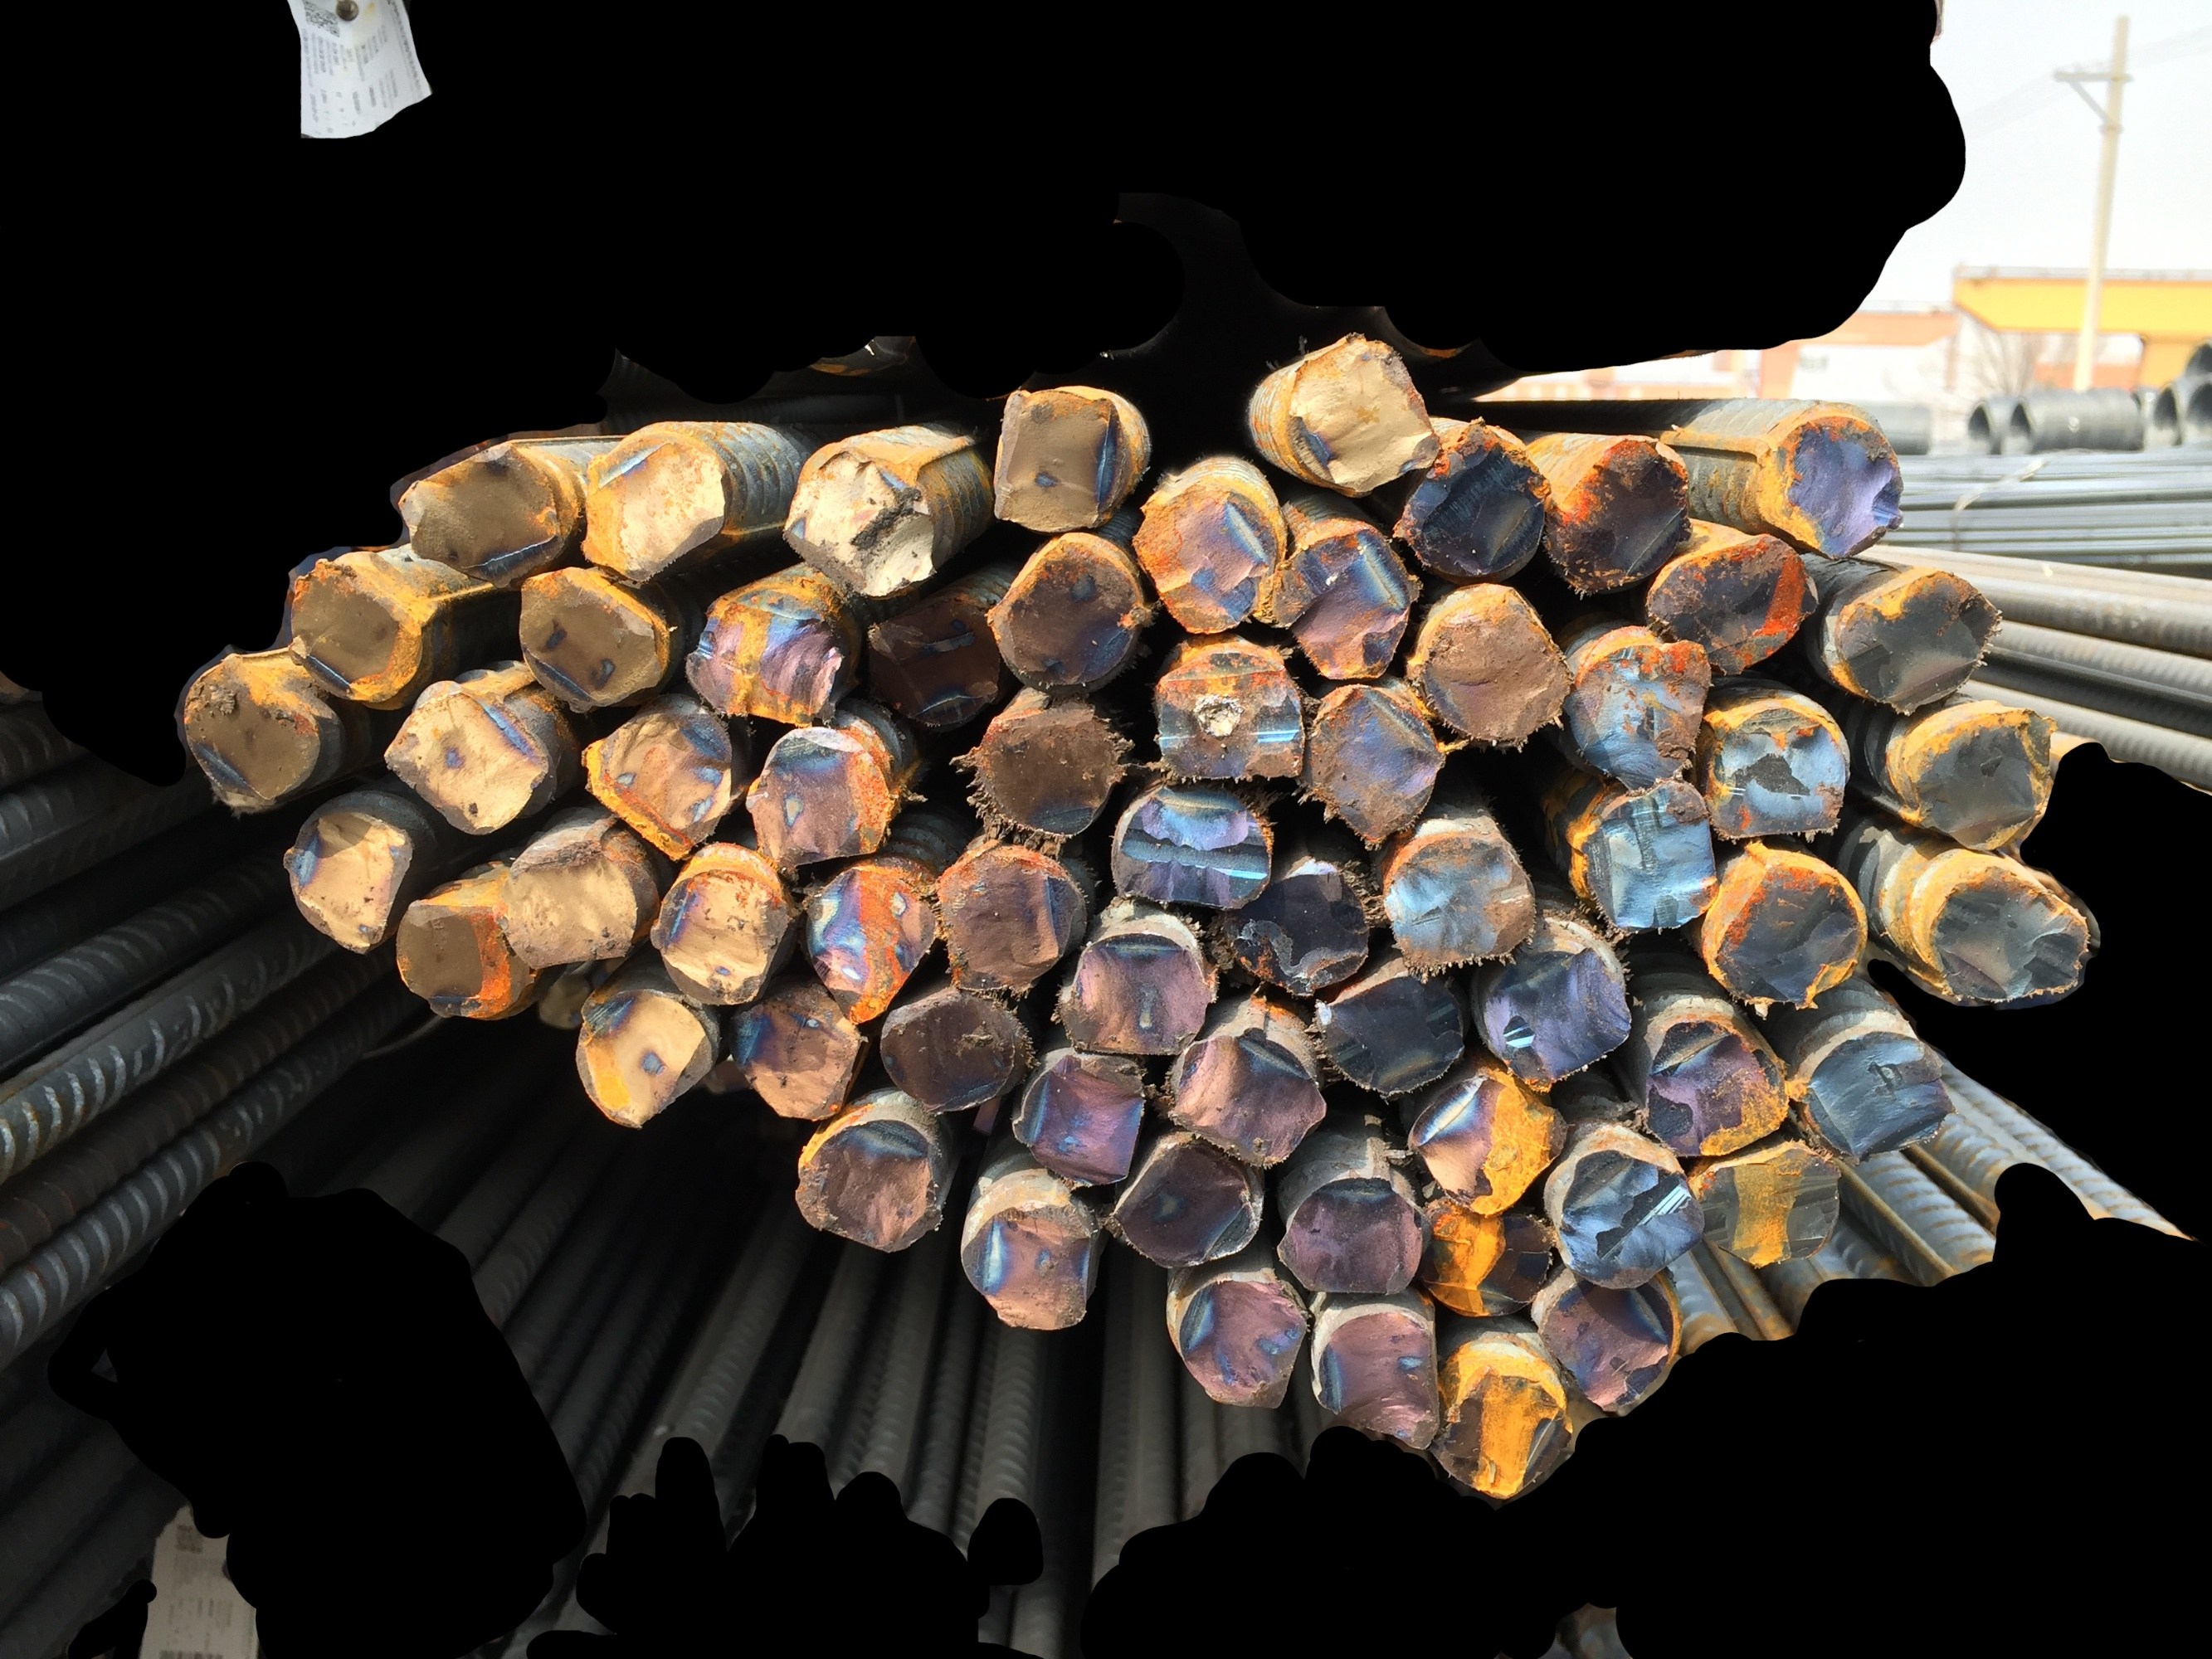rebar: (173, 652, 336, 826), (1820, 565, 2008, 714), (1701, 845, 1869, 1012), (980, 532, 1152, 694), (772, 432, 940, 598), (570, 415, 734, 584), (573, 701, 743, 864), (1642, 525, 1822, 678), (1259, 519, 1422, 687), (1626, 1002, 1794, 1166), (504, 559, 675, 720), (380, 681, 553, 840), (1536, 1143, 1712, 1298), (277, 547, 444, 709), (1274, 333, 1442, 495), (1747, 403, 1914, 565), (387, 434, 573, 579), (1469, 924, 1632, 1089), (1891, 702, 2062, 859), (931, 833, 1084, 1007), (1396, 415, 1555, 582), (1130, 469, 1288, 634), (788, 857, 945, 1025), (788, 1110, 959, 1263), (1398, 1065, 1571, 1216), (640, 847, 793, 1014), (1924, 857, 2092, 1011), (1039, 918, 1211, 1066), (1405, 584, 1564, 744), (1103, 1124, 1269, 1277), (955, 694, 1124, 843), (1300, 674, 1450, 843), (275, 795, 418, 971), (683, 577, 847, 728), (1794, 1025, 1958, 1176), (1544, 434, 1694, 598), (1168, 1018, 1325, 1173), (856, 580, 1008, 741), (1145, 650, 1320, 789), (1700, 692, 1855, 847), (1572, 775, 1724, 934), (1098, 782, 1272, 920), (978, 382, 1130, 537), (570, 979, 722, 1134), (1562, 629, 1712, 784), (1271, 1164, 1435, 1304), (744, 725, 896, 875), (1384, 823, 1536, 971), (947, 1194, 1100, 1340), (1218, 859, 1379, 999), (488, 833, 640, 979), (1309, 958, 1471, 1093), (1412, 1182, 1558, 1330), (870, 983, 1037, 1112), (1004, 1047, 1152, 1188), (1311, 1302, 1442, 1460), (1698, 1143, 1849, 1277), (1537, 1281, 1680, 1422), (1171, 1270, 1311, 1413), (1436, 1359, 1576, 1499), (390, 894, 535, 1025), (727, 981, 863, 1119)
